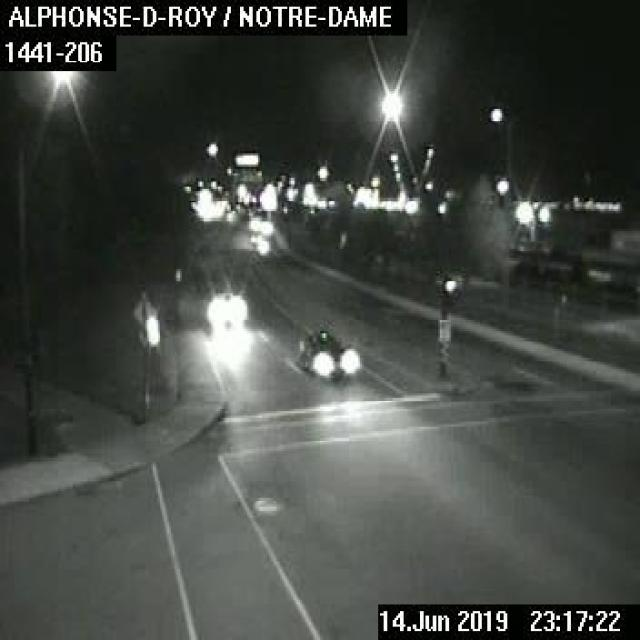vehicle: (296, 329, 354, 378), (206, 289, 243, 323)
